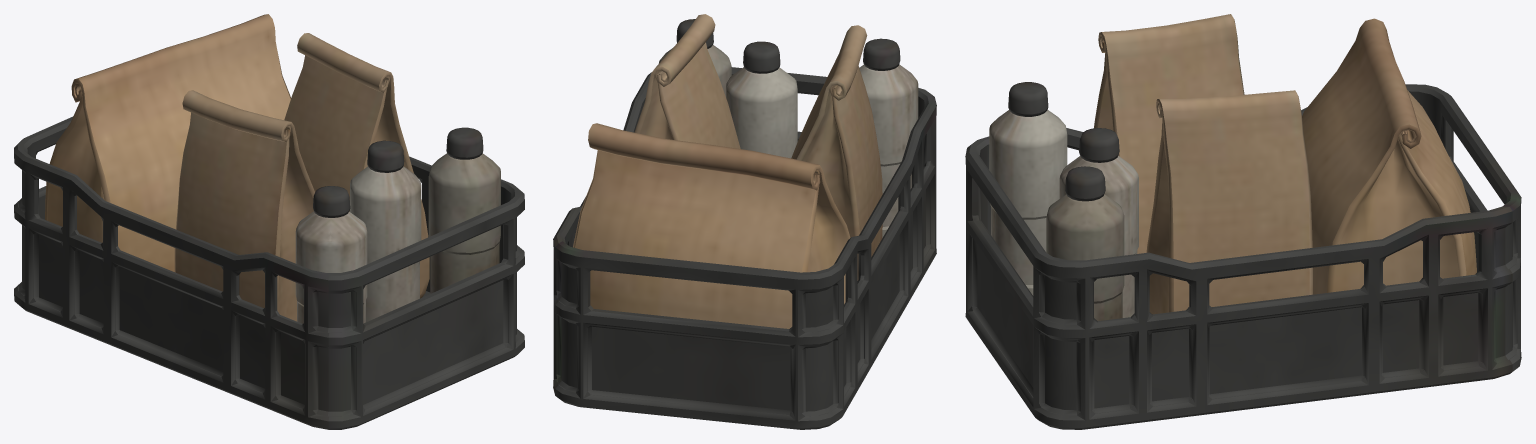
The model's file is prop_small_008.glb.
3 views of the same model, side by side, from view 1: azimuth 30°, elevation 25°; view 2: azimuth 150°, elevation 25°; view 3: azimuth 270°, elevation 25° (orthographic). The views are drawn at different scales.
Visible parts, largest first — view 1: Building_12_013; view 2: Building_12_013; view 3: Building_12_013.
Boxes of the visible parts, x1,y1,x2,y2 form: Building_12_013: (14, 14, 524, 429); Building_12_013: (553, 14, 936, 429); Building_12_013: (965, 14, 1521, 429).
Size of the model in its own units: 0.6183 by 0.4501 by 0.8.
1 material, 1 textured.
